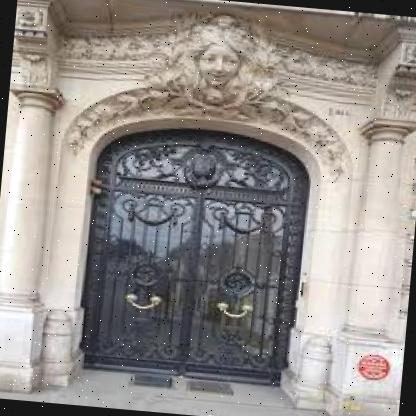door: (68, 108, 321, 395)
